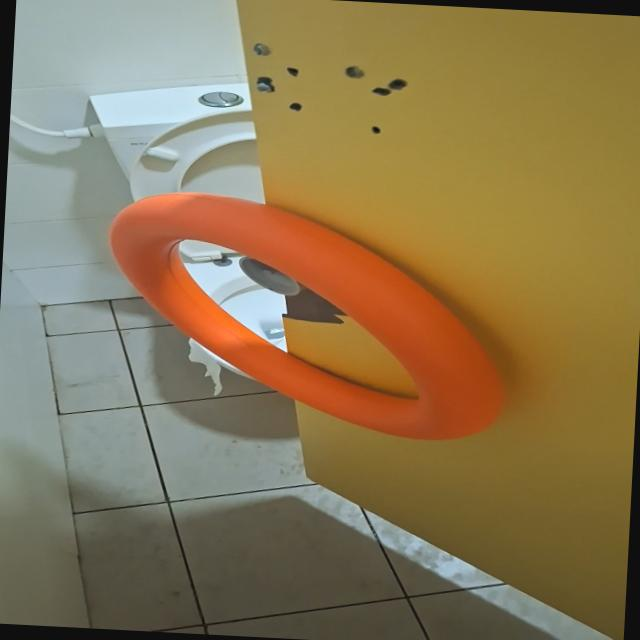note: (97, 186, 516, 446)
